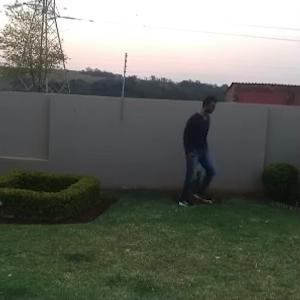follow: (177, 97, 208, 201)
